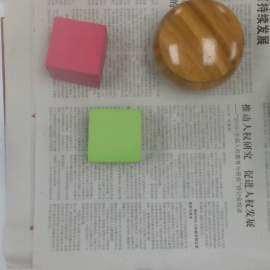chess: (151, 1, 244, 94)
